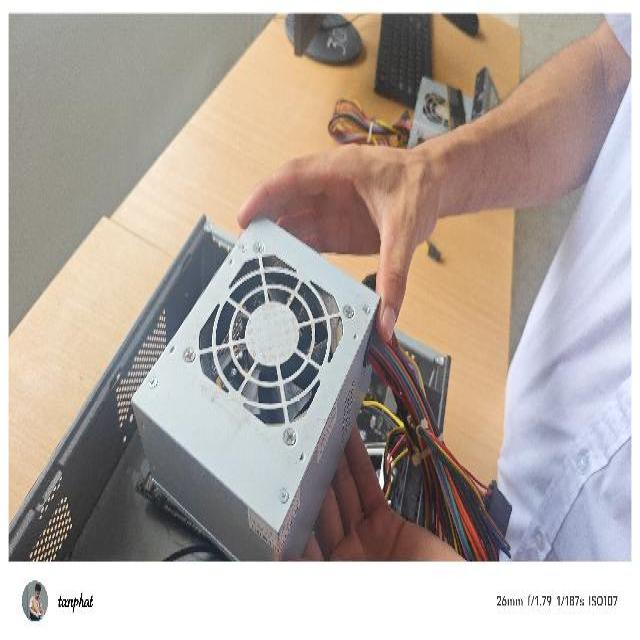PSU: (128, 207, 434, 560)
